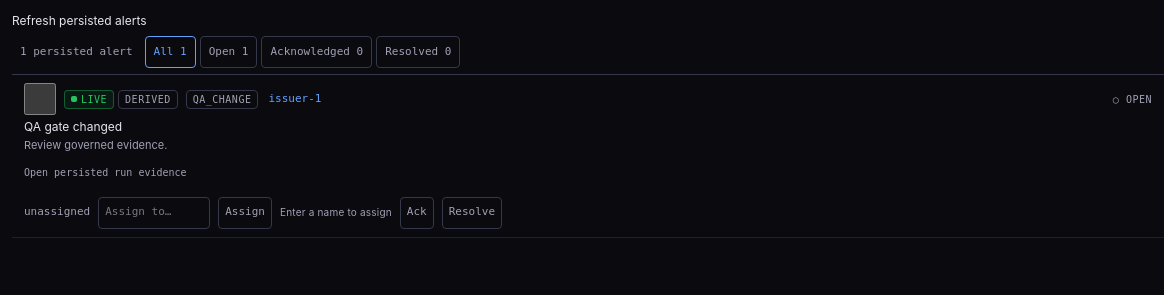
AlertInbox · persisted event presentation › states that input is preserved when an Ack transition can be retried
Type "Desk owner" into the field named "Alert assignee". click: (154, 213)
box: top-left (98, 197), bottom-right (210, 229)
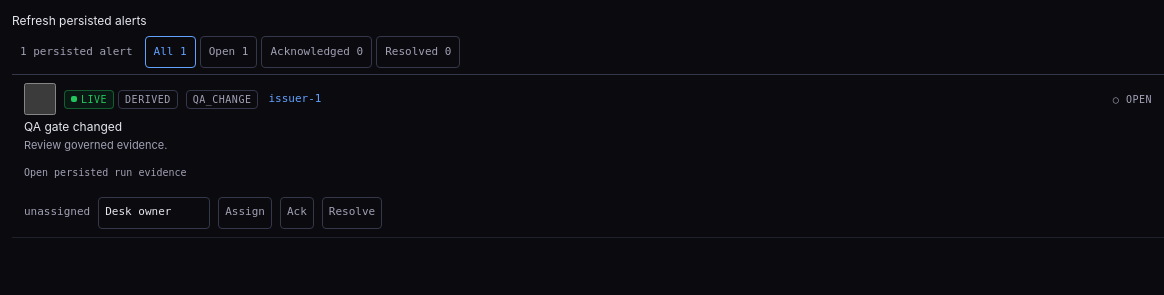
Click the button "Ack". click: (297, 213)
box: top-left (280, 197), bottom-right (314, 229)
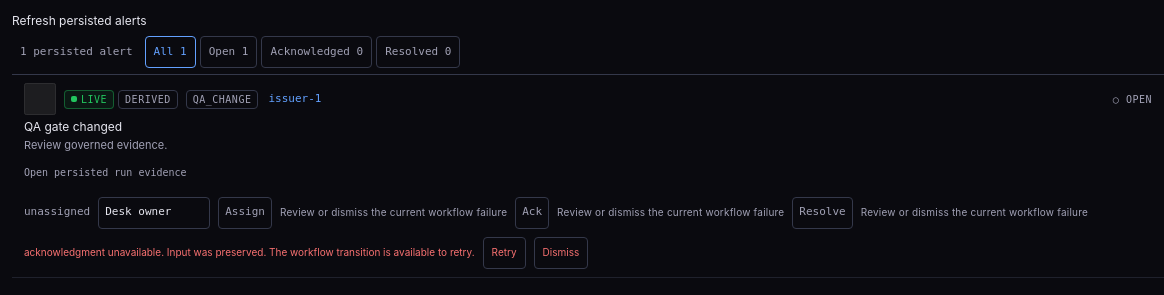
Expected: the message shows "Input was preserved.", top-left (164, 246), bottom-right (475, 258)
Expected: the message shows "The workflow transition is available to retry.", top-left (164, 246), bottom-right (475, 258)
Expected: the button "Retry" is shown, top-left (483, 237), bottom-right (526, 269)
